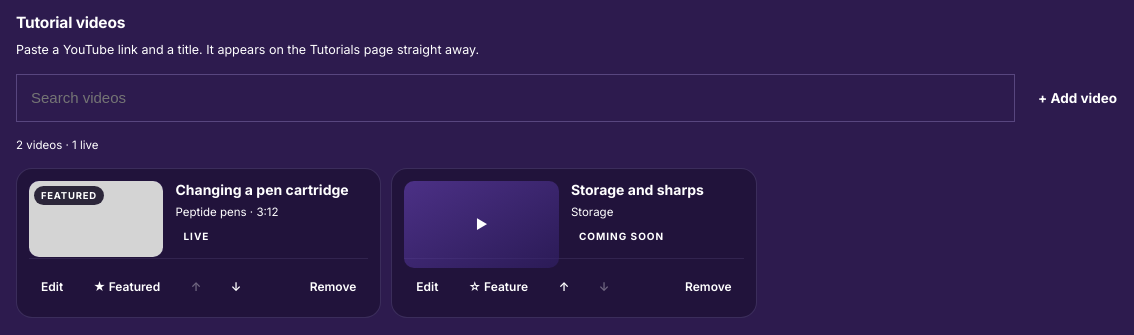
VideosCard — browsing › narrows the list as the owner searches
Expected: the list item "Changing a pen cartridge" is shown, [16, 168, 381, 318]
Type "fridge" into the search field labelled "Search videos". click: coordinates (516, 98)
box: [16, 74, 1015, 122]
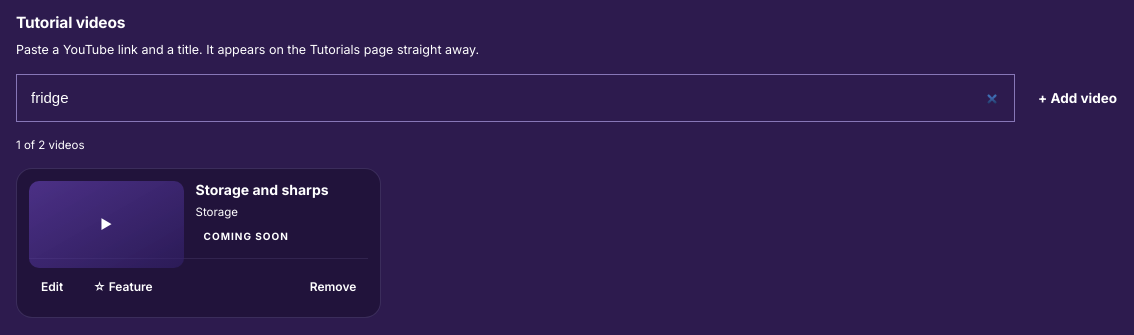
Now the number of list items is 1, box [16, 168, 381, 318]
Now the text "1 of 2 videos" is shown, box [16, 138, 84, 152]
